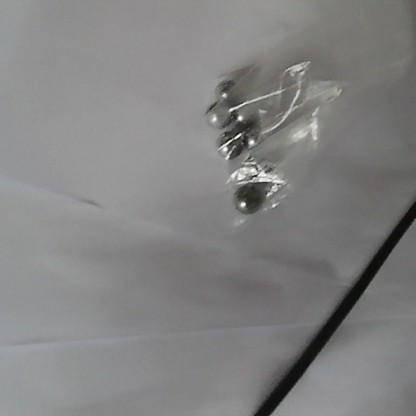ironball: (237, 148, 277, 180), (233, 176, 263, 212), (230, 119, 259, 147), (202, 101, 228, 129), (214, 130, 239, 158), (214, 76, 243, 100), (232, 101, 258, 127)
